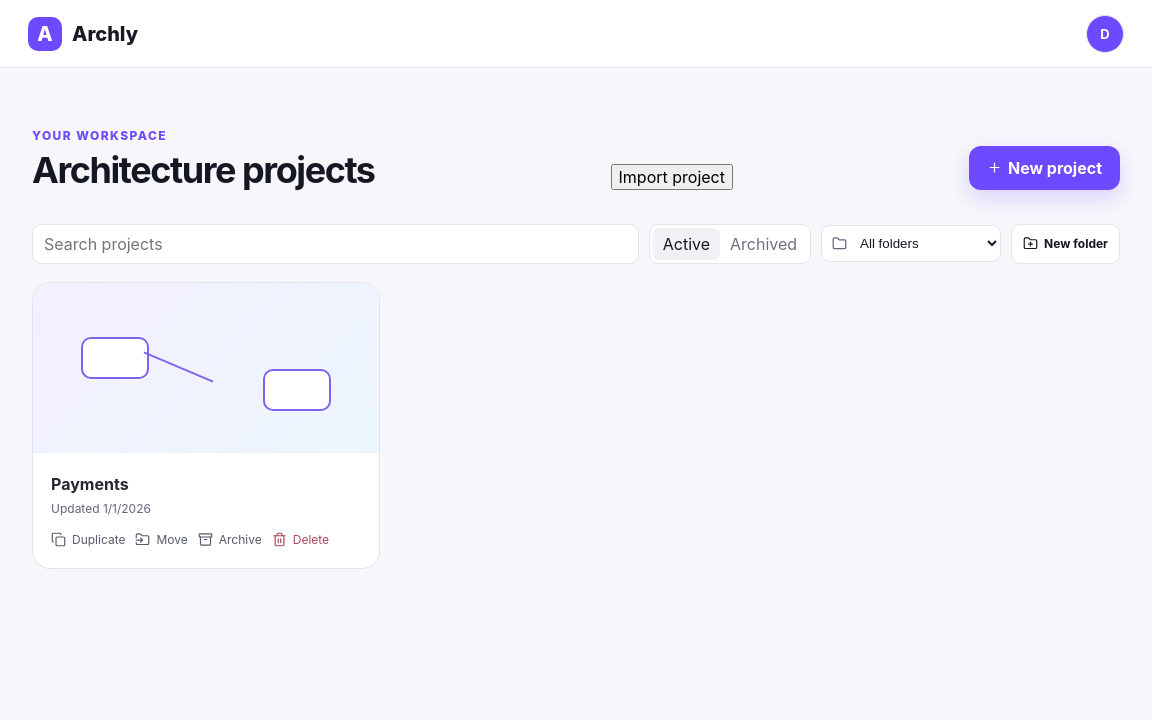
Test: Dashboard project actions › duplicates a project as a new dashboard entry
Step 1. Click the button "Duplicate" → click(88, 539), box [51,529,125,550]
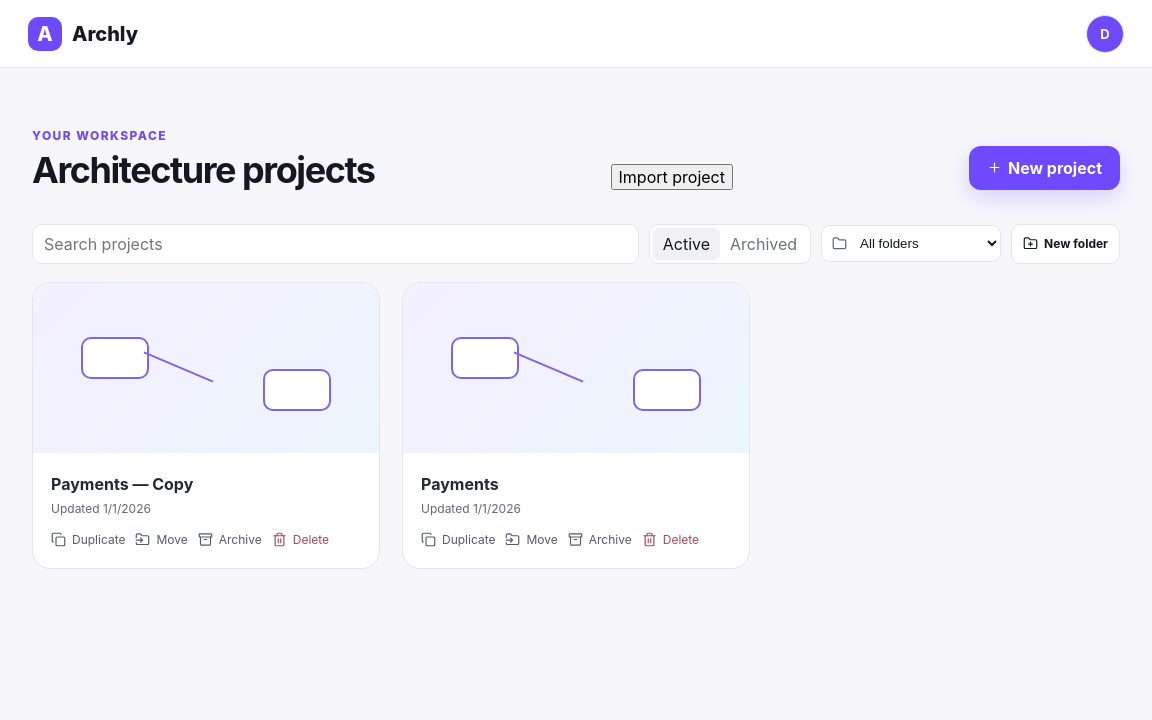
Now the button "Payments — Copy" is shown, box [51,474,193,494]
